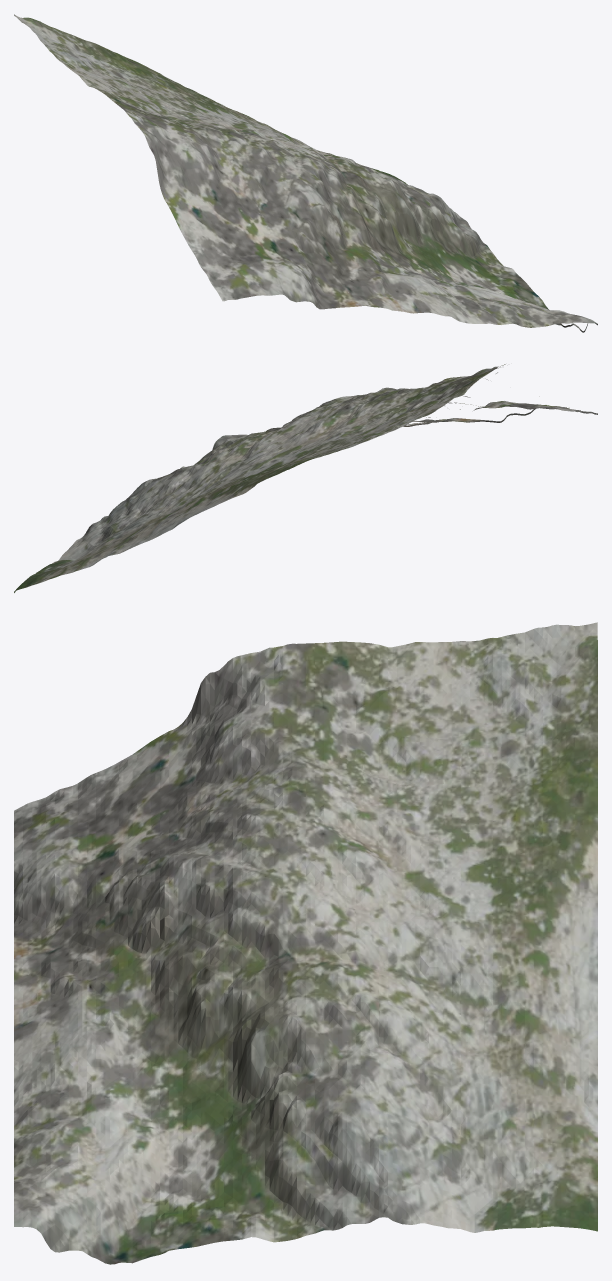
3 renders of one model, top to bottom at view 1: azimuth 30°, elevation 25°; view 2: azimuth 150°, elevation 25°; view 3: azimuth 270°, elevation 25°, orthographic. The views are drawn at different scales.
Bounding box in the file's own units: 250 × 176 × 241.
Materials: 1 (1 with a texture image).
